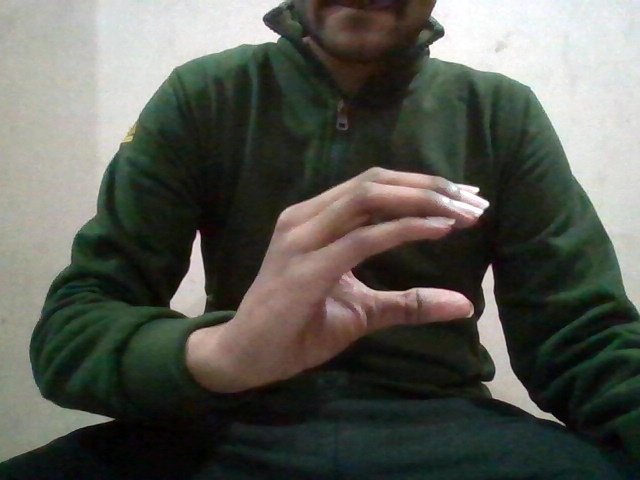C: (234, 163, 490, 367)
